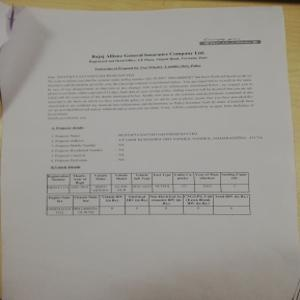table: (46, 170, 251, 215)
text: (45, 71, 253, 123), (51, 123, 262, 167), (84, 48, 215, 71)
